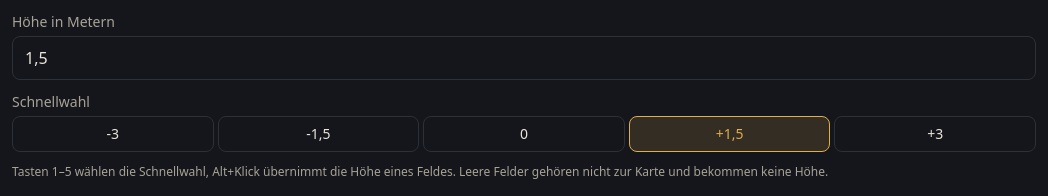
Test: ElevationPanel › takes German decimals, negative values and the quick buttons
Replace the text in the field labelled "Höhe in Metern" with "-4,5" at (524, 58), box left=12, top=36, right=1036, bottom=80
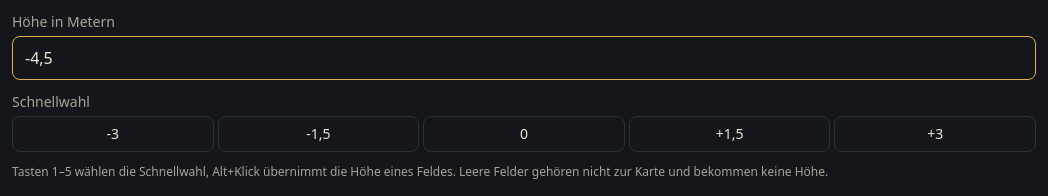
Replace the text in the field labelled "Höhe in Metern" with "2.5" at (524, 58), box left=12, top=36, right=1036, bottom=80
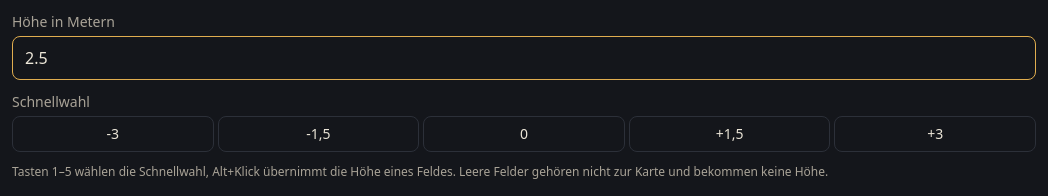
Click the button named "-3 m" at (113, 134), box left=12, top=116, right=214, bottom=152
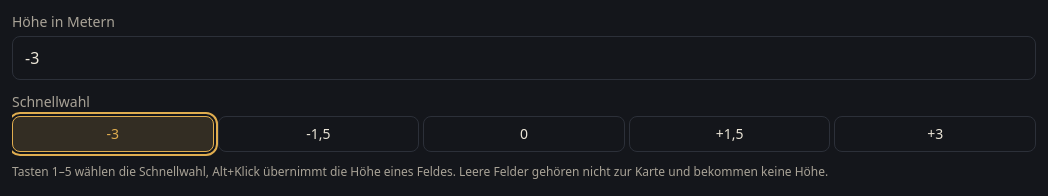
Expected: the field labelled "Höhe in Metern" holds "-3", left=12, top=36, right=1036, bottom=80
